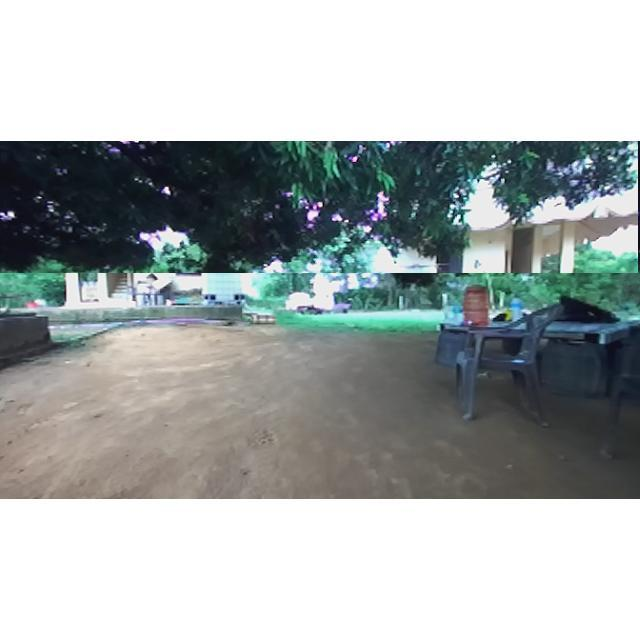direk: (0, 141, 638, 273), (466, 234, 514, 314)
